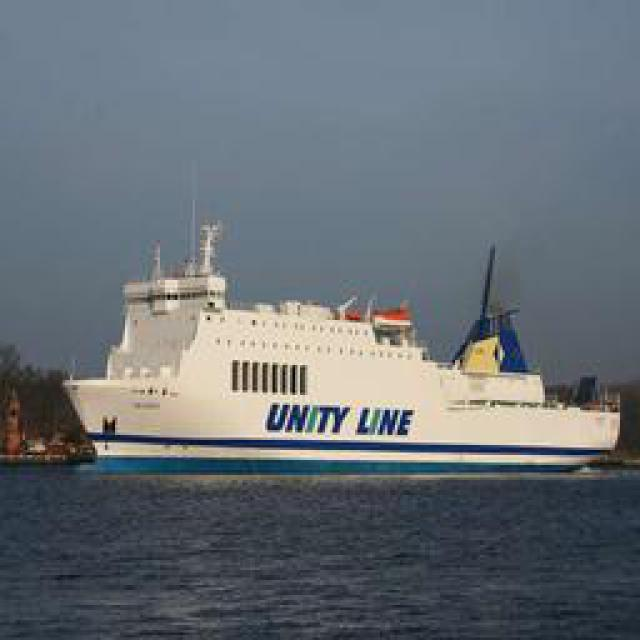Ship: (54, 210, 617, 470)
